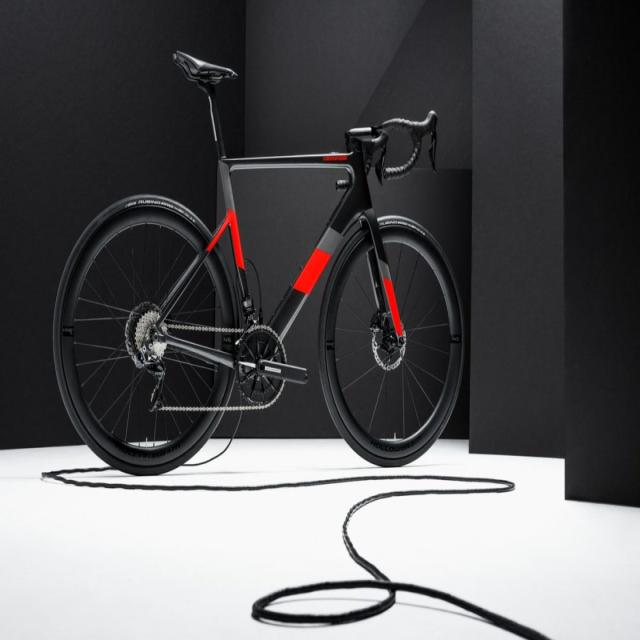road-bike: (52, 46, 463, 479)
